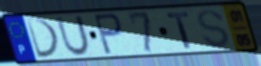7: (126, 10, 154, 56)
D: (24, 17, 62, 60)
P: (91, 12, 125, 57)
S: (195, 8, 232, 50)
T: (165, 11, 193, 50)
U: (55, 14, 92, 58)
